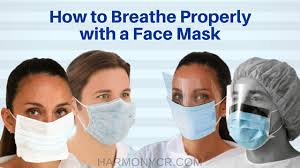mask: (226, 52, 299, 161), (6, 66, 75, 164), (71, 54, 140, 145), (166, 49, 225, 144)
